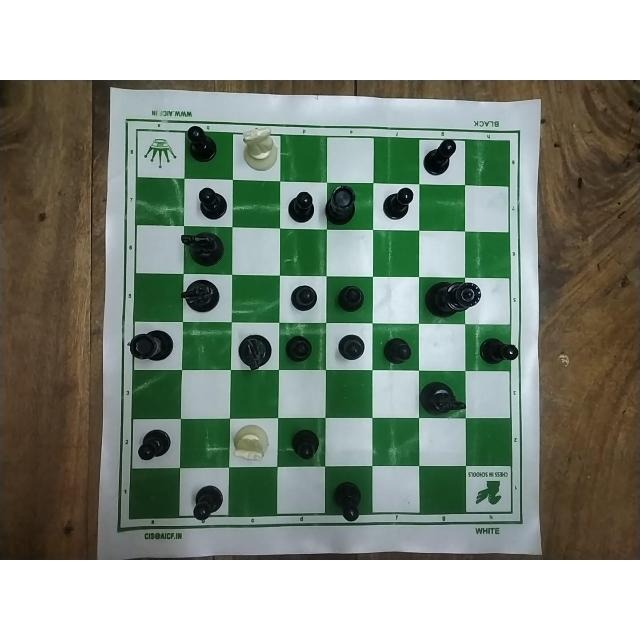black-knight: (418, 378, 470, 420), (180, 226, 229, 268), (179, 275, 225, 313), (235, 331, 273, 373)
black-pawn: (331, 477, 363, 529), (137, 423, 174, 467), (379, 181, 416, 225), (419, 135, 458, 176), (184, 120, 220, 164), (286, 420, 322, 462), (480, 334, 523, 367), (190, 483, 224, 523), (194, 183, 230, 219), (282, 280, 320, 313), (334, 285, 373, 316), (286, 188, 318, 223), (380, 335, 413, 365), (333, 331, 364, 362), (284, 335, 314, 363)
black-queen: (422, 276, 485, 319)
black-rook: (125, 325, 179, 367), (327, 185, 357, 225)
white-knight: (236, 125, 280, 177), (229, 418, 273, 467)
